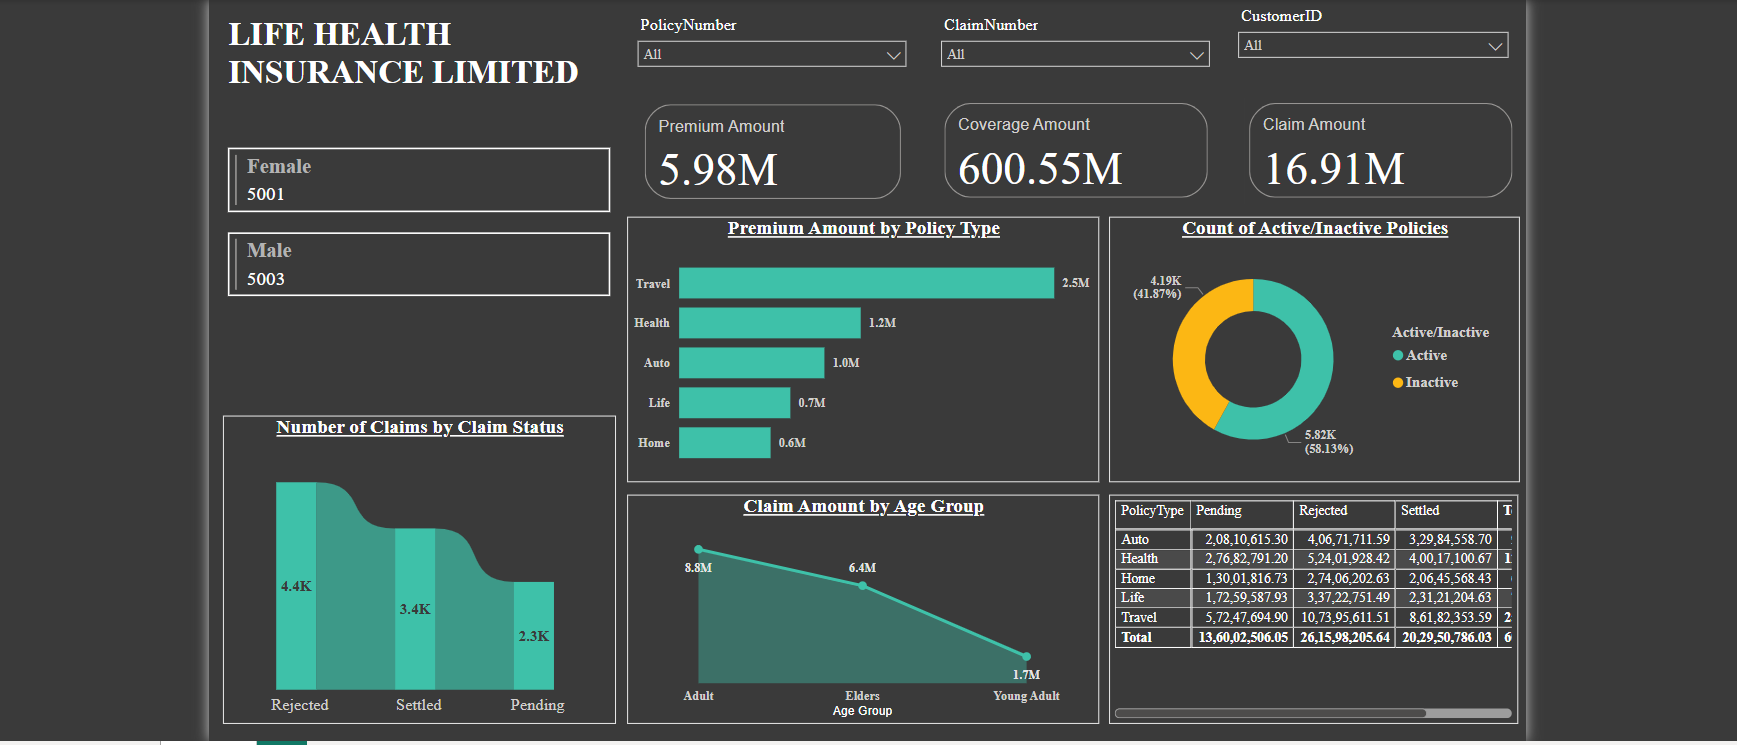

What the dashboard file says about the page in this screenshot:
{"tool":"powerbi","page":{"name":"Report","canvas":[1280,720],"ordinal":0},"visuals":[{"type":"slicer","fields":{"Values":["InsuranceData.PolicyNumber"]},"box":[406.5,9.9,281.4,117.8],"z":0},{"type":"slicer","fields":{"Values":["InsuranceData.CustomerID"]},"box":[990.3,1.2,282.6,117.8],"z":1000},{"type":"slicer","fields":{"Values":["InsuranceData.ClaimNumber"]},"box":[701.5,9.9,281.4,117.8],"z":2000},{"type":"textbox","box":[13.6,9.9,381.8,117.8],"z":3000},{"type":"cardVisual","fields":{"Data":["Sum(InsuranceData.PremiumAmount)"]},"box":[418.9,96.7,259.1,102.9],"z":4000},{"type":"cardVisual","fields":{"Data":["Sum(InsuranceData.CoverageAmount)"]},"box":[710.2,95.4,266.5,102.9],"z":5000},{"type":"cardVisual","fields":{"Data":["Sum(InsuranceData.ClaimAmount)"]},"box":[1006.5,95.4,266.5,102.9],"z":6000},{"type":"multiRowCard","fields":{"Values":["InsuranceData.Gender","CountNonNull(InsuranceData.Gender)"]},"box":[13.6,138.8,381.8,250.4],"z":7000},{"type":"ribbonChart","title":"Number of Claims by Claim Status","fields":{"Category":["InsuranceData.ClaimStatus"],"Y":["CountNonNull(InsuranceData.ClaimStatus)"]},"box":[13.6,404.1,381.8,300],"z":8000},{"type":"barChart","title":"Premium Amount by Policy Type","fields":{"Y":["Sum(InsuranceData.PremiumAmount)"],"Category":["InsuranceData.PolicyType"]},"box":[406.5,210.7,458.6,257.8],"z":9000},{"type":"lineChart","title":"Claim Amount by Age Group","fields":{"Category":["InsuranceData.Age Group"],"Y":["Sum(InsuranceData.ClaimAmount)"]},"box":[406.5,480.9,458.6,223.1],"z":10000},{"type":"donutChart","title":"Count of Active/Inactive Policies","fields":{"Category":["InsuranceData.Active/Inactive"],"Y":["CountNonNull(InsuranceData.Active/Inactive)"]},"box":[875.1,210.7,399.1,257.8],"z":11000},{"type":"pivotTable","fields":{"Values":["Sum(InsuranceData.CoverageAmount)"],"Rows":["InsuranceData.PolicyType"],"Columns":["InsuranceData.ClaimStatus"]},"box":[875.1,480.9,397.9,223.1],"z":12000}]}

Visuals, with their boxes on the page's 1280x720 design canvas (x1, y1, x2, y2). These are canvas units, not pixel positions in the 1737x745 screenshot, which may show the page scaled, cropped or inside an application window:
slicer - InsuranceData.PolicyNumber: bbox(406, 10, 688, 128)
slicer - InsuranceData.CustomerID: bbox(990, 1, 1273, 119)
slicer - InsuranceData.ClaimNumber: bbox(702, 10, 983, 128)
textbox: bbox(14, 10, 395, 128)
cardVisual - Sum(InsuranceData.PremiumAmount): bbox(419, 97, 678, 200)
cardVisual - Sum(InsuranceData.CoverageAmount): bbox(710, 95, 977, 198)
cardVisual - Sum(InsuranceData.ClaimAmount): bbox(1006, 95, 1273, 198)
multiRowCard - InsuranceData.Gender x CountNonNull(InsuranceData.Gender): bbox(14, 139, 395, 389)
"Number of Claims by Claim Status" ribbonChart: bbox(14, 404, 395, 704)
"Premium Amount by Policy Type" barChart: bbox(406, 211, 865, 468)
"Claim Amount by Age Group" lineChart: bbox(406, 481, 865, 704)
"Count of Active/Inactive Policies" donutChart: bbox(875, 211, 1274, 468)
pivotTable - Sum(InsuranceData.CoverageAmount) x InsuranceData.PolicyType: bbox(875, 481, 1273, 704)
